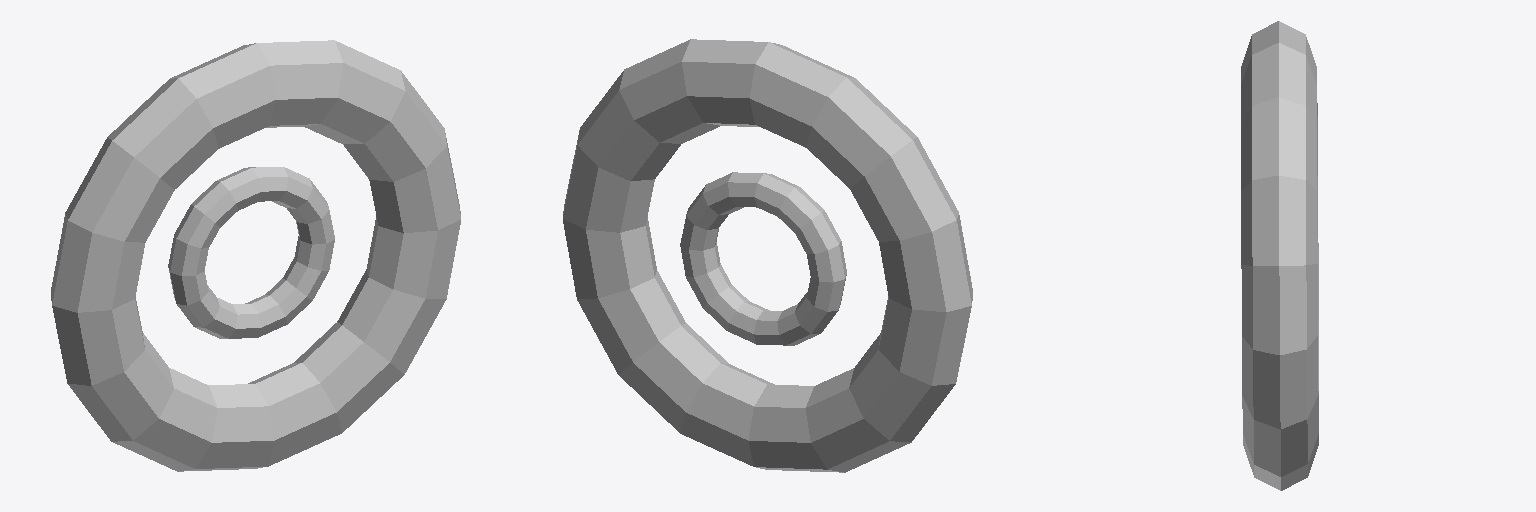
The model's file is spacewheel.obj.
The picture shows the model from 3 angles: view 1: azimuth 30°, elevation 25°; view 2: azimuth 150°, elevation 25°; view 3: azimuth 270°, elevation 25°; orthographic projection.
Visible parts, largest first — view 1: Torus5; view 2: Torus5; view 3: Torus5.
Boxes of the visible parts, <box> form: Torus5: <box>51,40,460,471</box>; Torus5: <box>563,39,972,472</box>; Torus5: <box>1241,21,1318,490</box>.
Size of the model in its own units: 6 by 6 by 1.